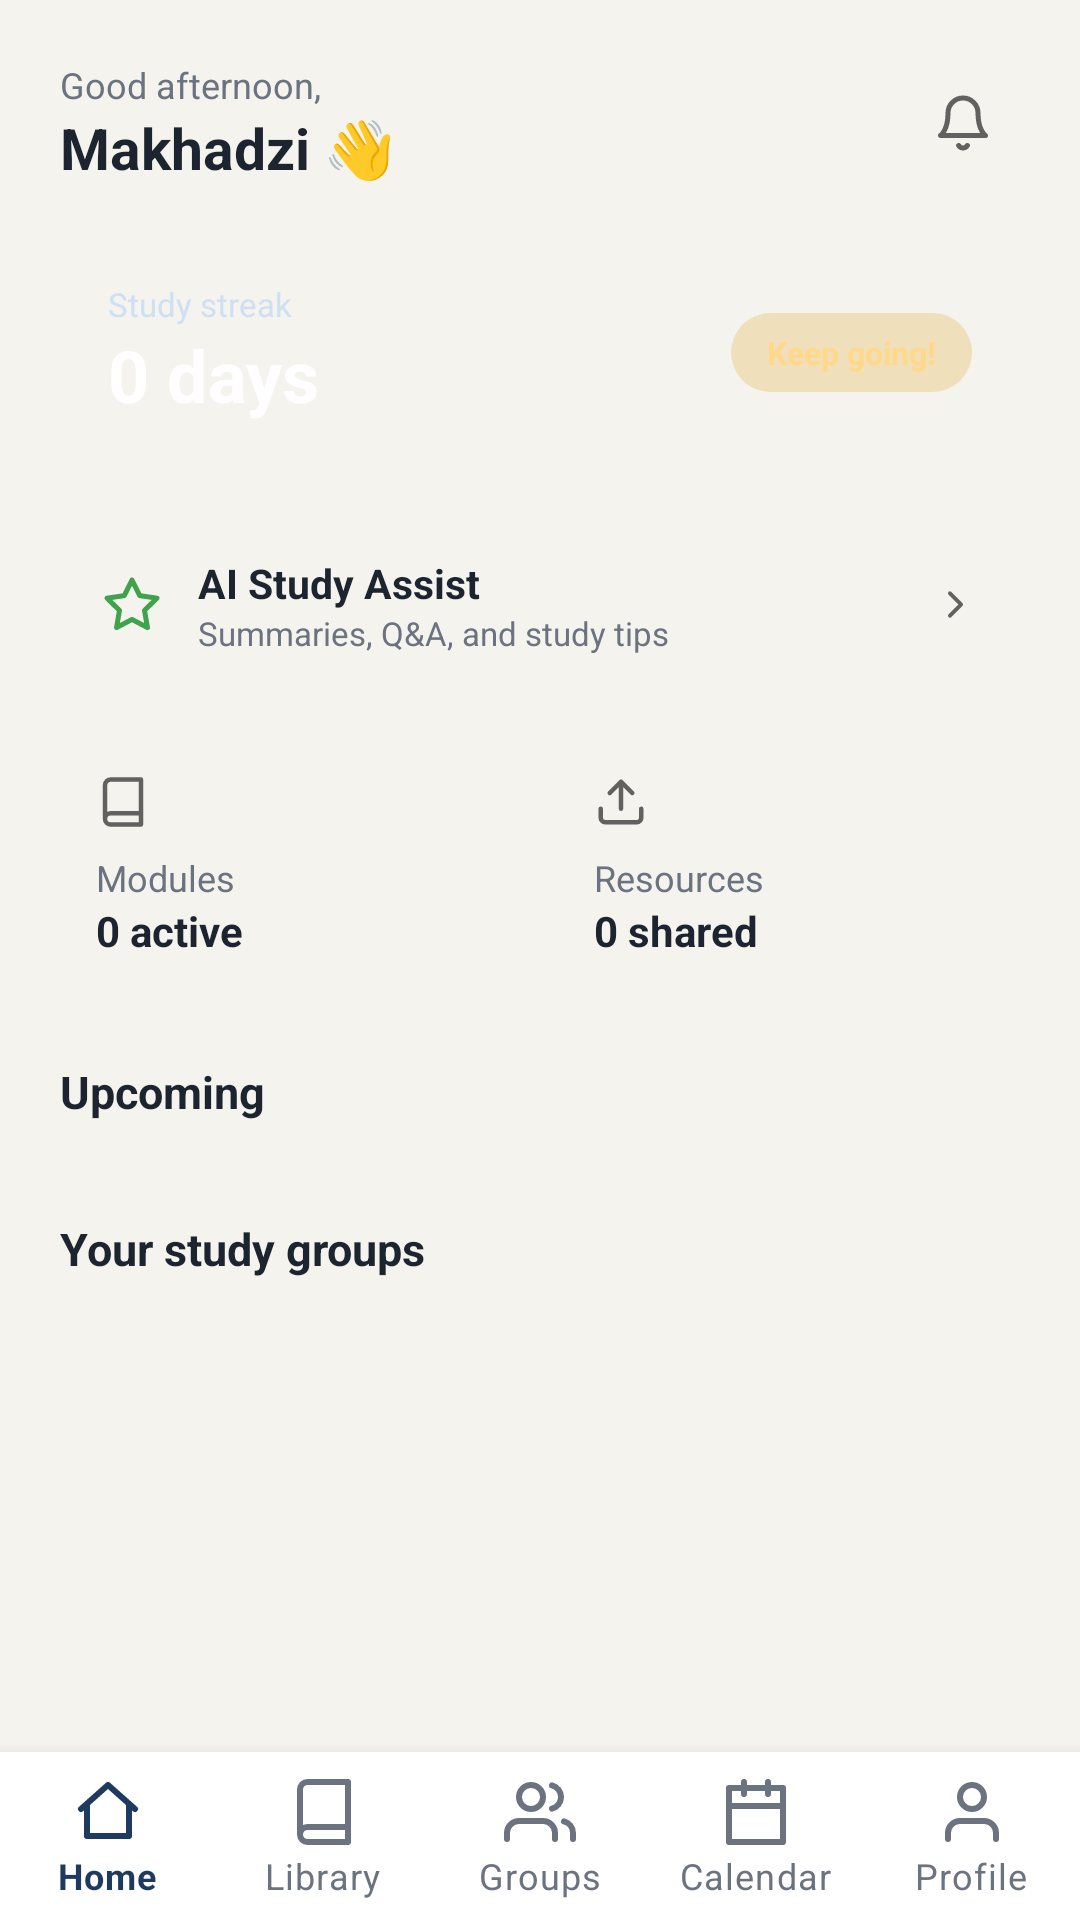

Where to tap for icons on this 1080×1920 app screen, as (x,y):
bell: (963,123)
book: (123,802)
chevron right: (955,604)
star: (132,603)
upload: (621,802)
